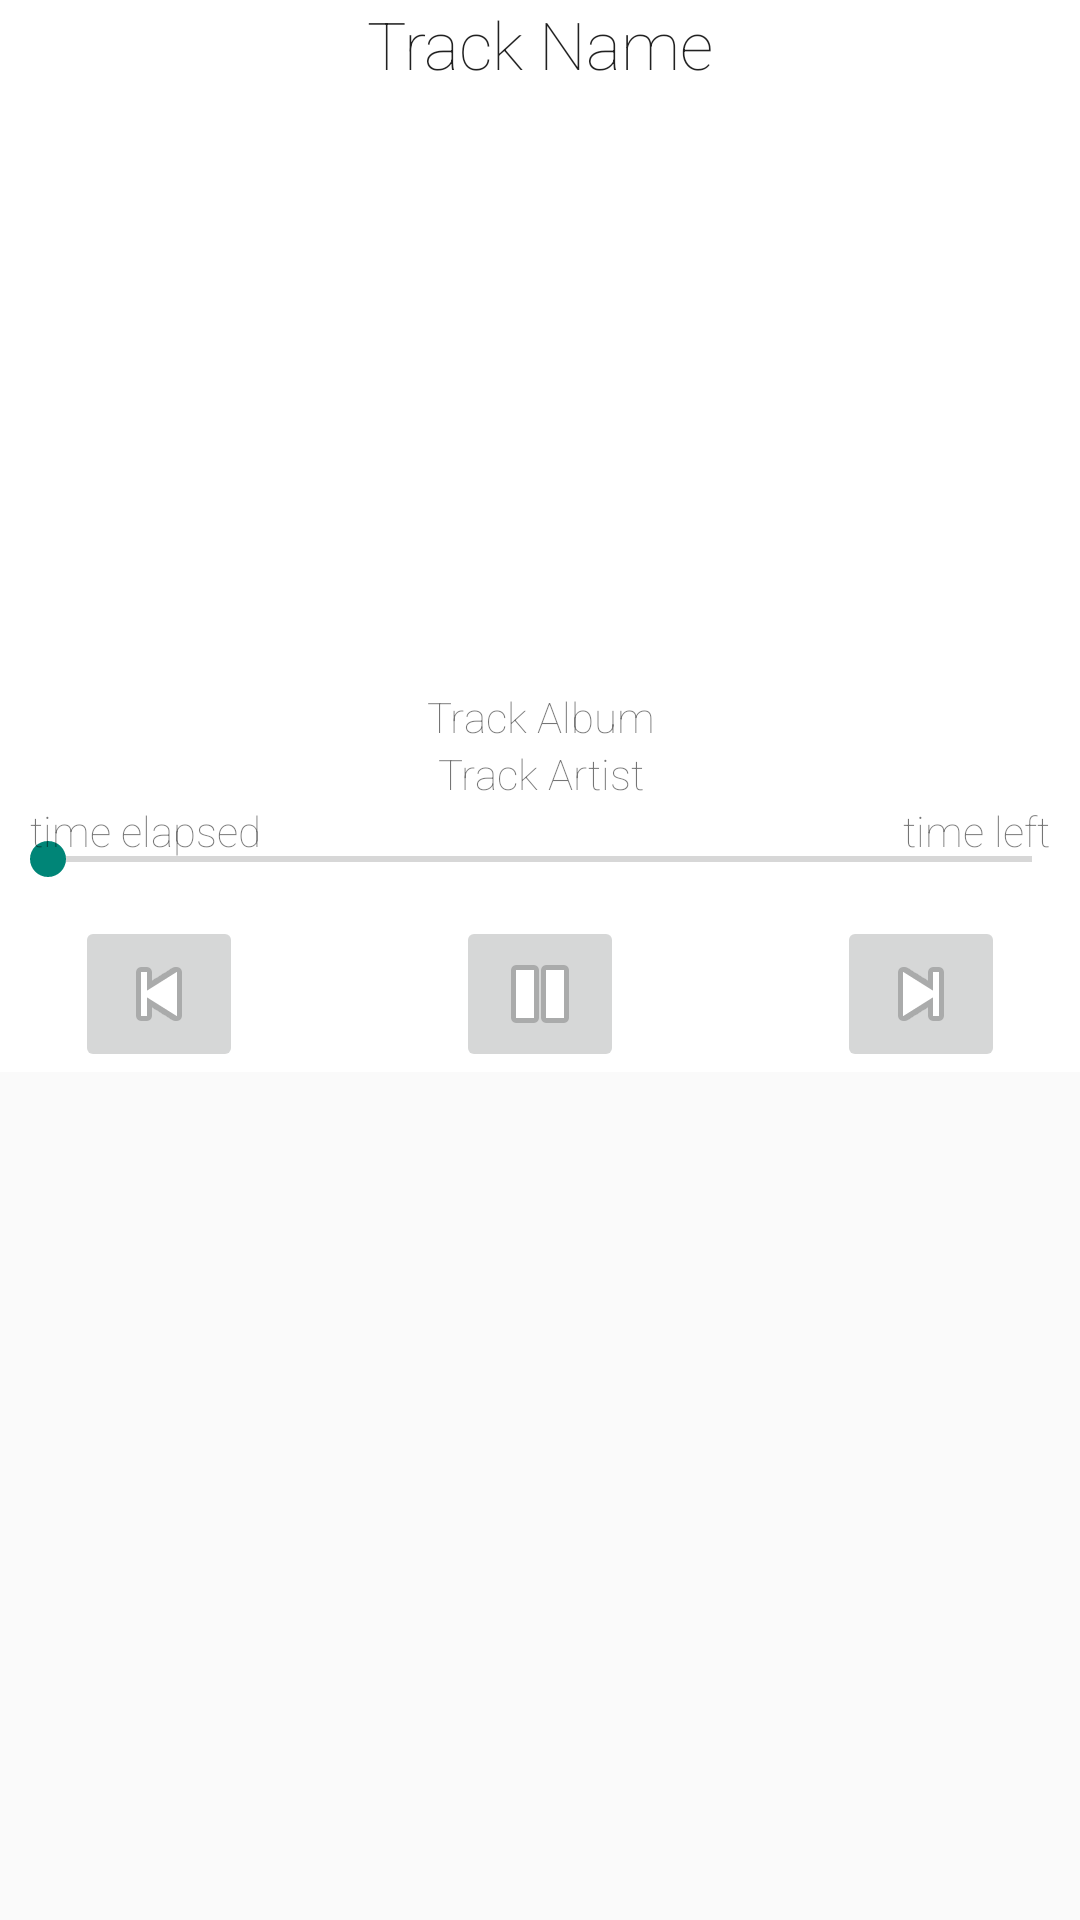

Icons on this 1080x1920 Android screen, each with its box as (x1, y1, x2, y2):
next: (849, 934, 993, 1054)
pause: (468, 934, 612, 1054)
previous: (87, 934, 231, 1054)
